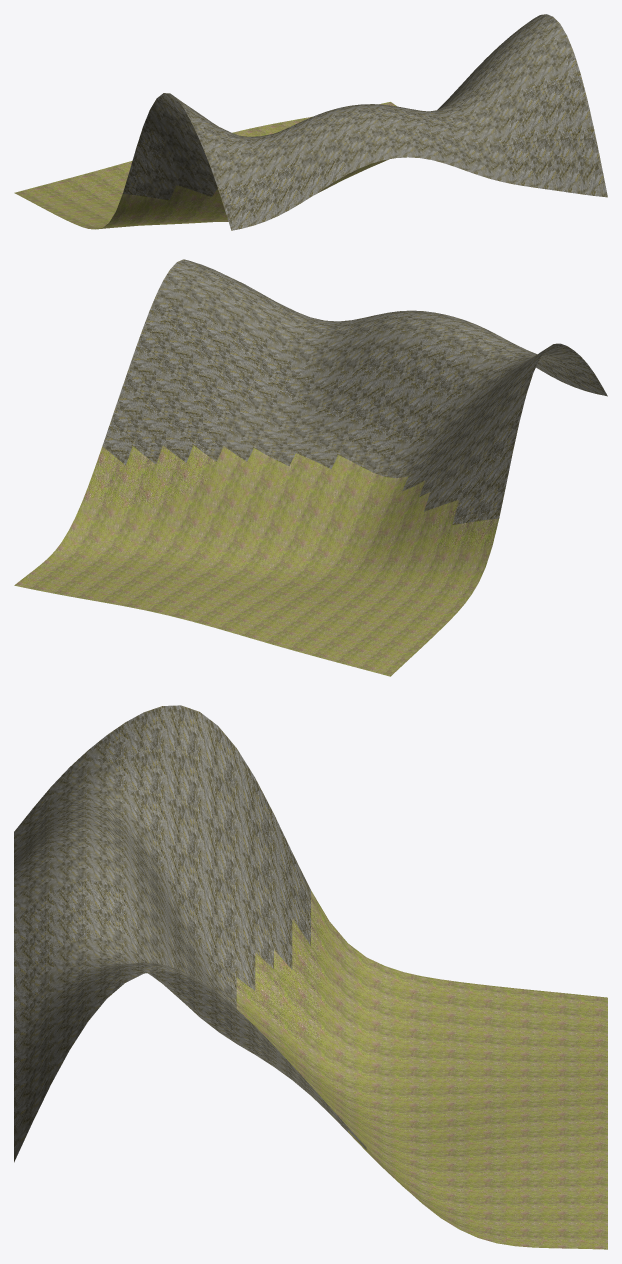
Rendered from chunk_0_3.glb.
3 renders of one model, top to bottom at view 1: azimuth 30°, elevation 25°; view 2: azimuth 150°, elevation 25°; view 3: azimuth 270°, elevation 25°, orthographic. The views are drawn at different scales.
Visible parts, largest first — view 1: chunk_0_3-col; view 2: chunk_0_3-col; view 3: chunk_0_3-col.
Boxes of the visible parts, left/top/right/bottom form: chunk_0_3-col: left=14, top=14, right=607, bottom=230; chunk_0_3-col: left=14, top=259, right=607, bottom=676; chunk_0_3-col: left=14, top=705, right=607, bottom=1249.
Bounding box in the file's own units: 64 × 34.86 × 64.
2 materials, 2 textured.
